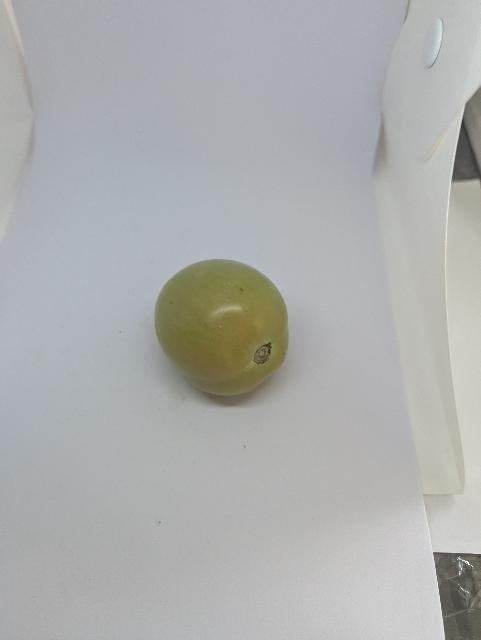breaker: (151, 255, 299, 404)
